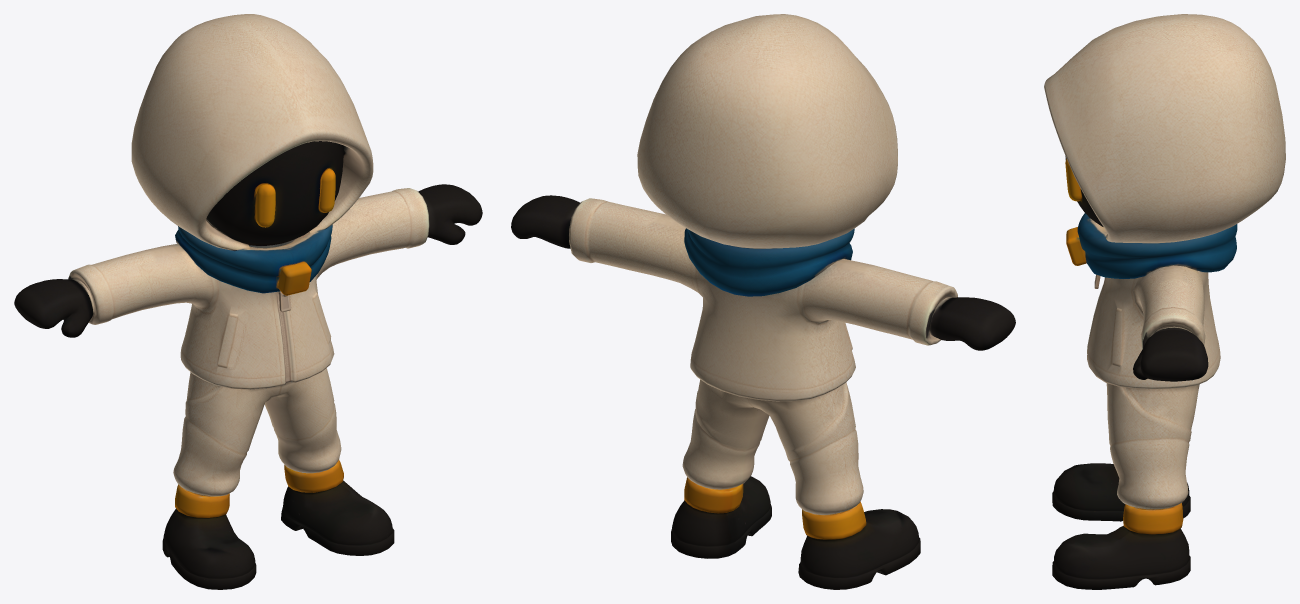
The model's file is ink-hero-tpose.glb.
The picture shows the model from 3 angles, left to right: view 1: azimuth 30°, elevation 25°; view 2: azimuth 150°, elevation 25°; view 3: azimuth 270°, elevation 25°; orthographic projection. The views are drawn at different scales.
Parts seen in each view (by area): view 1: tripo_3b77b36d_13fc_427b_a532_8c7b9ab6e788; view 2: tripo_3b77b36d_13fc_427b_a532_8c7b9ab6e788; view 3: tripo_3b77b36d_13fc_427b_a532_8c7b9ab6e788.
Boxes of the visible parts, x1=… form: tripo_3b77b36d_13fc_427b_a532_8c7b9ab6e788: x1=14, y1=14, x2=482, y2=589; tripo_3b77b36d_13fc_427b_a532_8c7b9ab6e788: x1=511, y1=14, x2=1015, y2=589; tripo_3b77b36d_13fc_427b_a532_8c7b9ab6e788: x1=1044, y1=14, x2=1285, y2=589.
Bounding box in the file's own units: 0.9399 × 0.9995 × 0.4233.
1 material, 1 textured.
